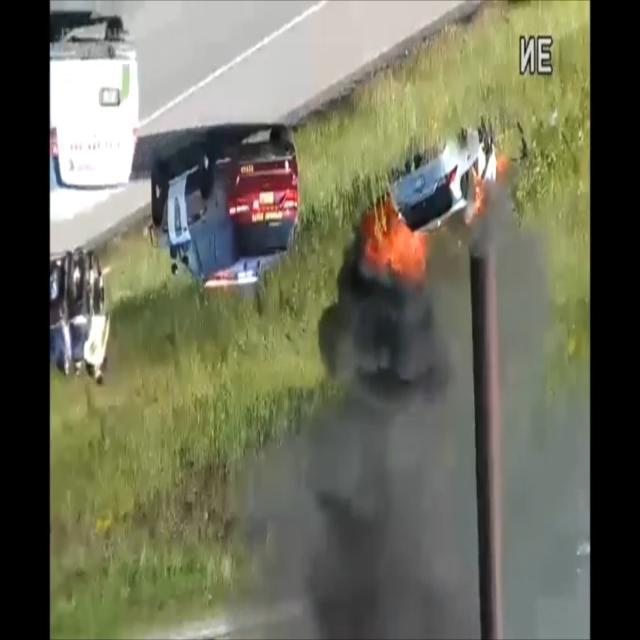fire: (454, 148, 514, 228), (370, 209, 430, 287)
